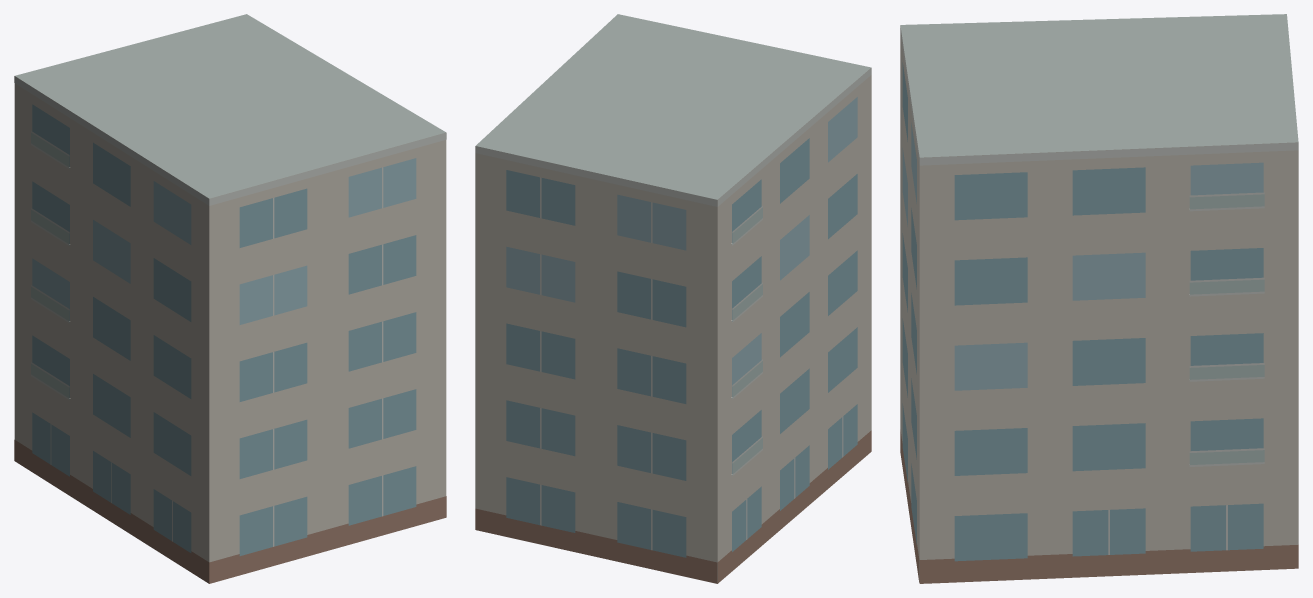
Rendered from survey-upis-32883300.glb.
The picture shows the model from 3 angles, left to right: view 1: azimuth 30°, elevation 25°; view 2: azimuth 150°, elevation 25°; view 3: azimuth 270°, elevation 25°; orthographic projection. The views are drawn at different scales.
Parts seen in each view (by area): view 1: survey-upis-32883300.tmp; view 2: survey-upis-32883300.tmp; view 3: survey-upis-32883300.tmp.
Part boxes in pixels (box(x1,y1,x2,y2)): survey-upis-32883300.tmp: box(14, 14, 446, 583); survey-upis-32883300.tmp: box(475, 14, 871, 583); survey-upis-32883300.tmp: box(900, 14, 1298, 583).
Size of the model in its own units: 9.4 by 13 by 11.02.
